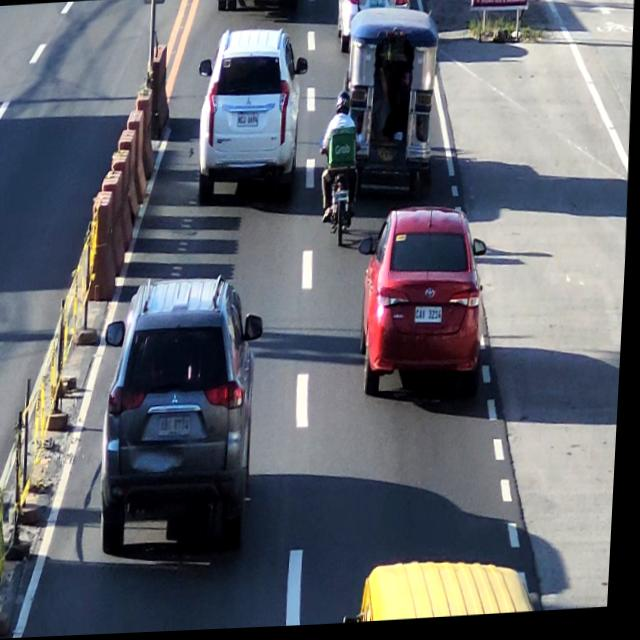Car: (102, 273, 266, 555), (358, 206, 493, 402), (194, 23, 306, 207), (339, 0, 413, 12)
Jeep: (344, 10, 438, 197), (356, 543, 549, 626)
License-Plate: (161, 410, 198, 443), (417, 308, 448, 332), (377, 148, 401, 169), (237, 113, 263, 132), (333, 190, 353, 206), (369, 0, 387, 12)
Motorcycle: (315, 97, 366, 250)
